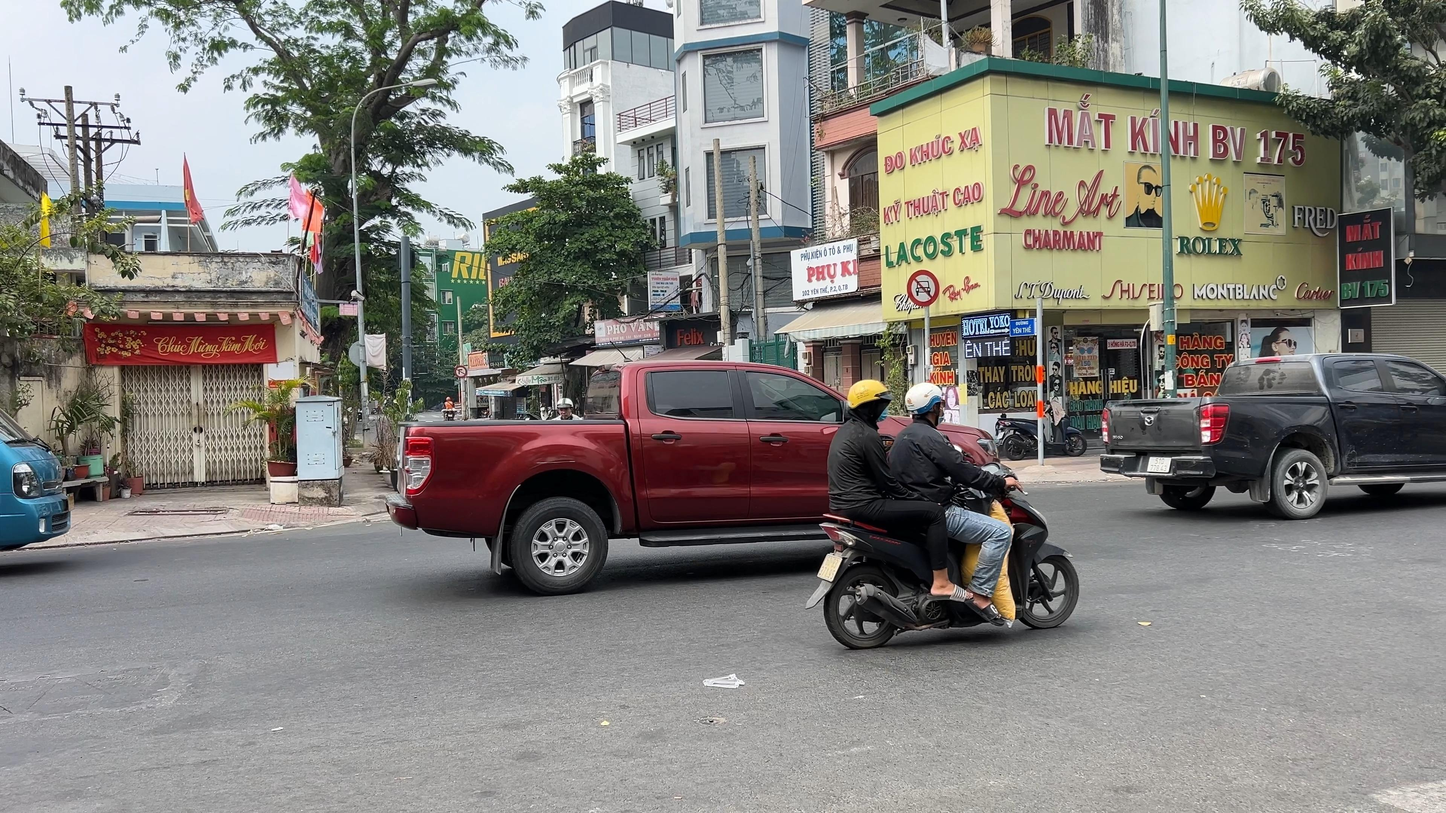driver: (805, 379, 1079, 649)
helmet: (848, 379, 895, 424), (905, 382, 946, 428), (557, 398, 574, 420)
